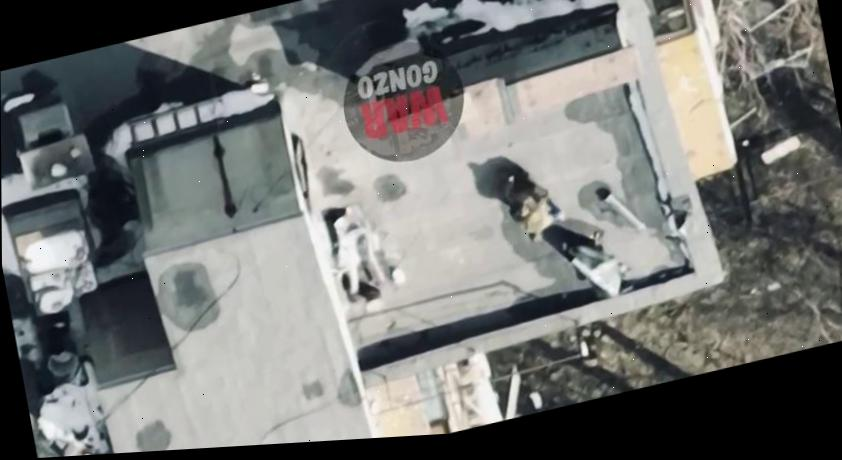person: (500, 163, 568, 247)
